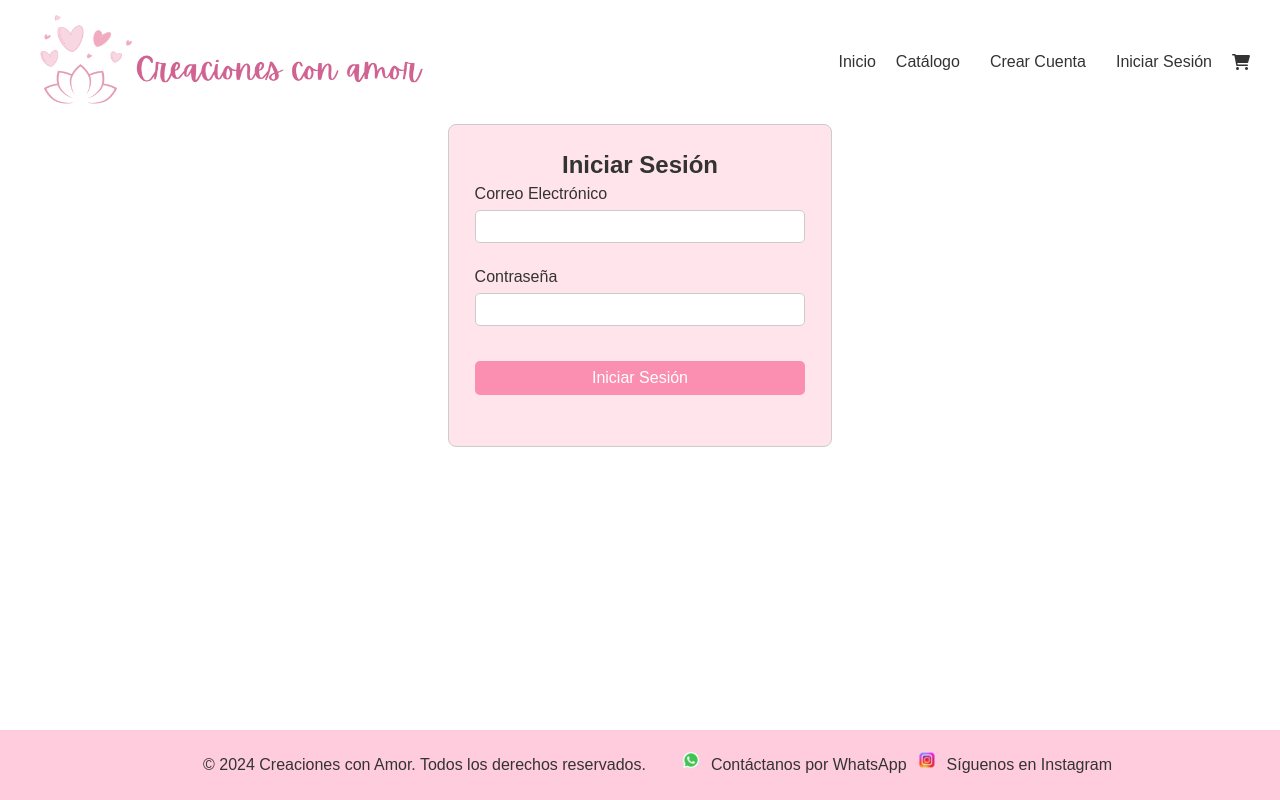
Test: Pruebas de Inicio de Sesión › SS-0002: Inicio de sesión incorrecta
Step 1. Type "npavez44@gmail.com" into the field named "email" → (641, 227), box left=475, top=210, right=806, bottom=243
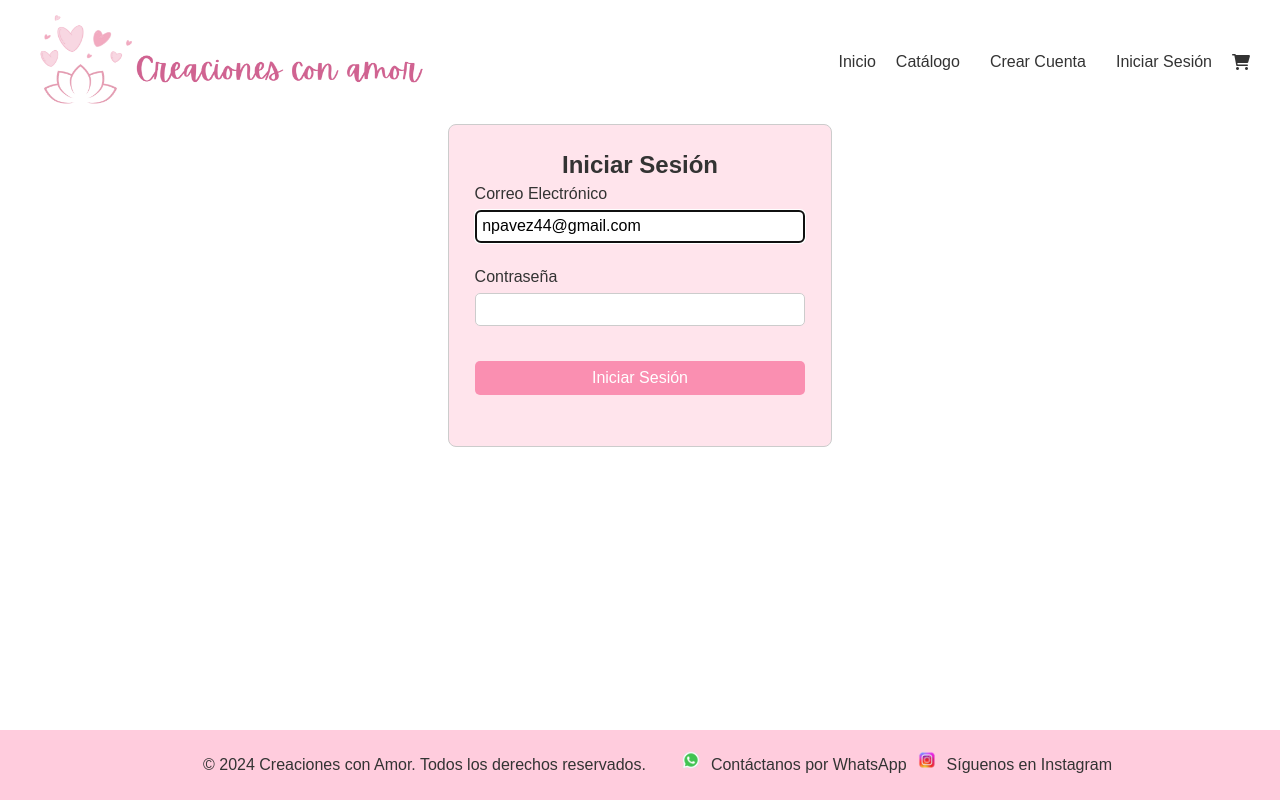
Step 2. Type "admin1" into the password field named "contraseña" → (641, 310), box left=475, top=293, right=806, bottom=326
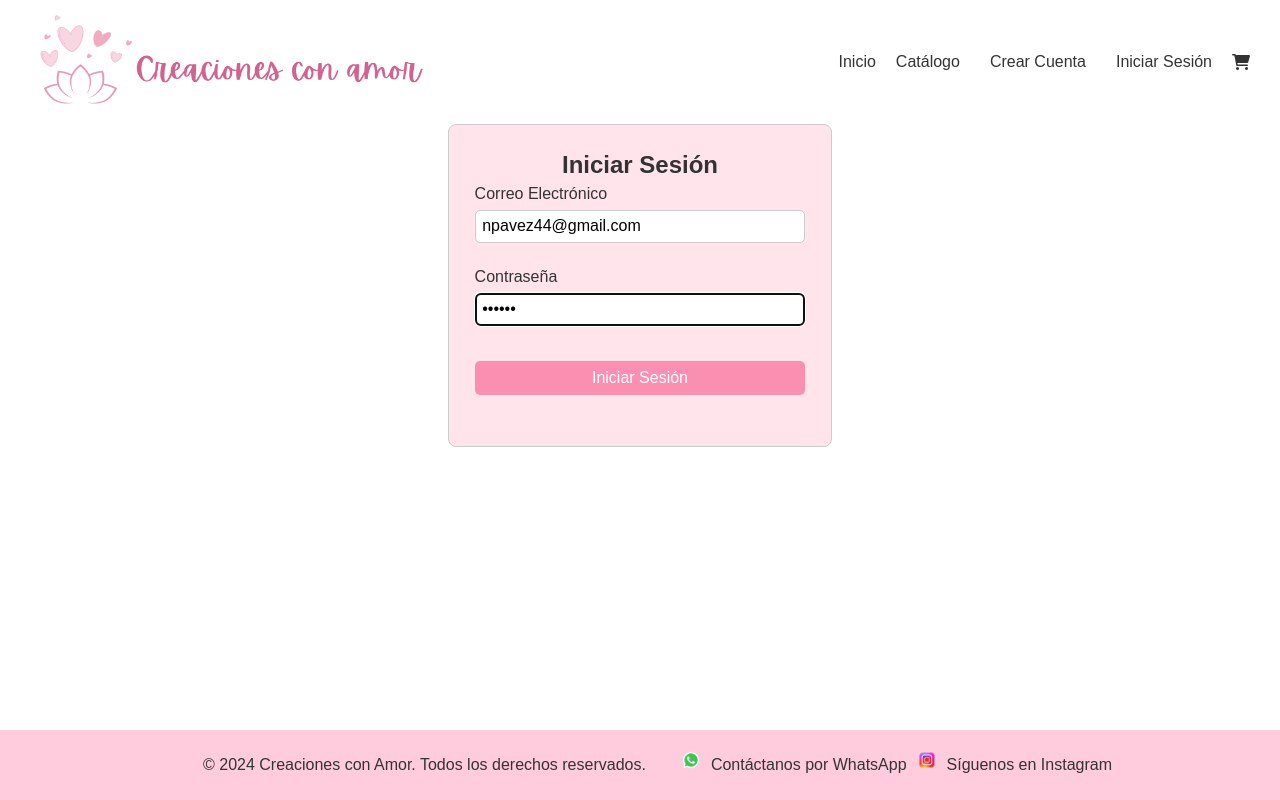
Step 3. Click the button with id "boton" → click(641, 379), box left=475, top=361, right=806, bottom=396
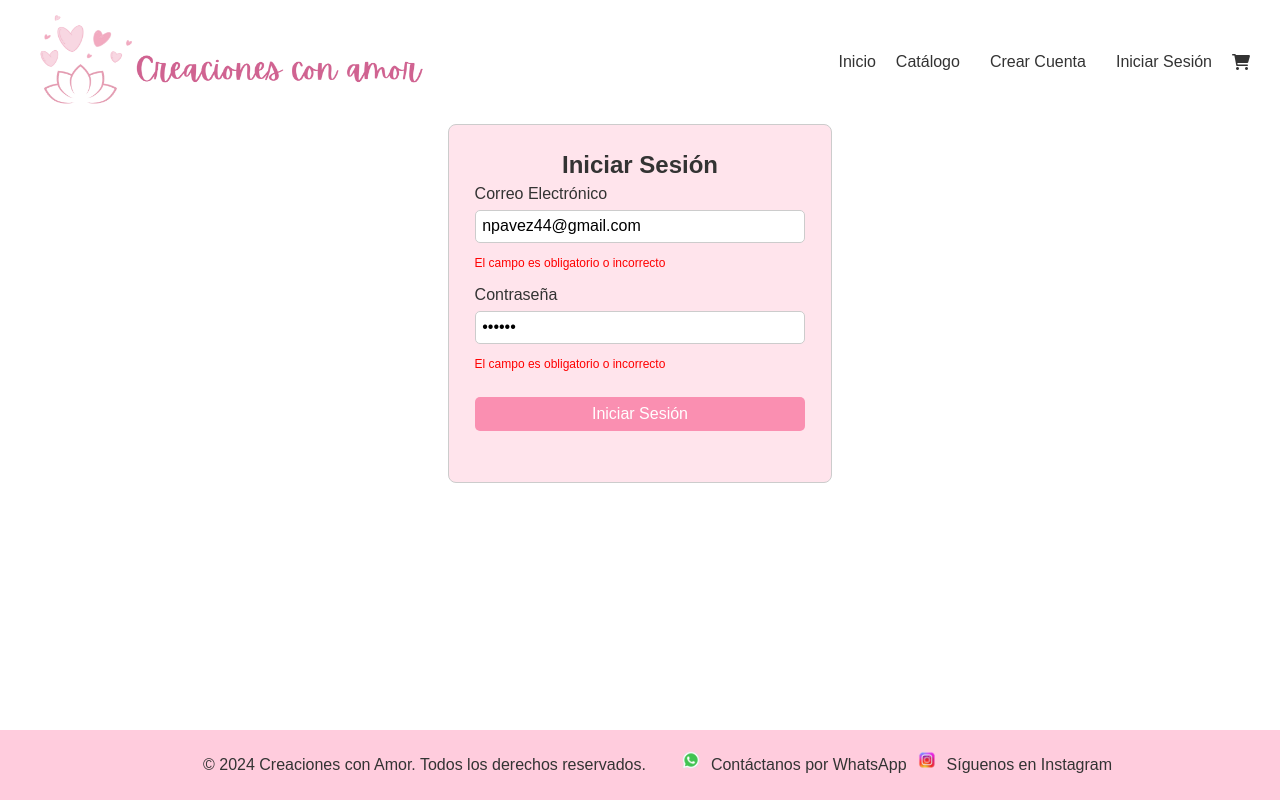
Expected: the text with class "error-message" below "Correo Electrónico" reads "El campo es obligatorio o incorrecto", left=475, top=256, right=666, bottom=270
Expected: the text "El campo es obligatorio o incorrecto" below "Contraseña" is shown, left=475, top=357, right=666, bottom=371
